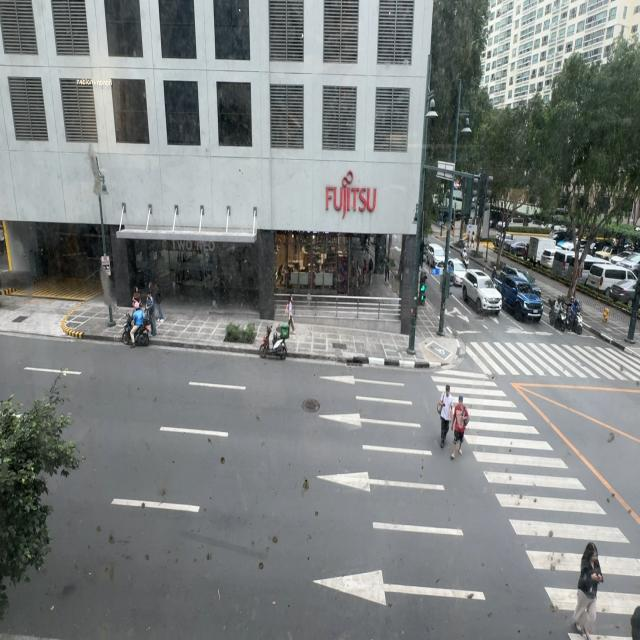crossing: (573, 542, 602, 638)
jaywalking: (449, 394, 468, 458), (438, 383, 455, 449)
pedestrain: (155, 278, 165, 324), (285, 294, 296, 335), (132, 286, 141, 312)
